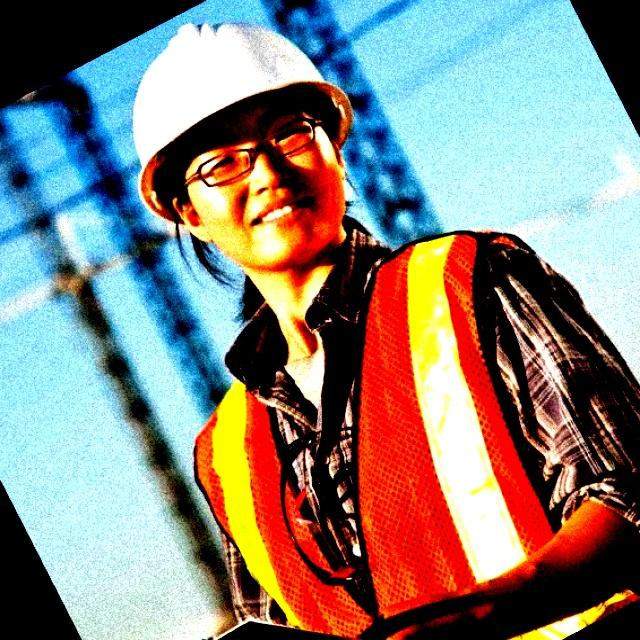Capacete: (133, 23, 352, 219)
Colete: (354, 234, 552, 616)
Pessoa: (134, 24, 639, 637)
